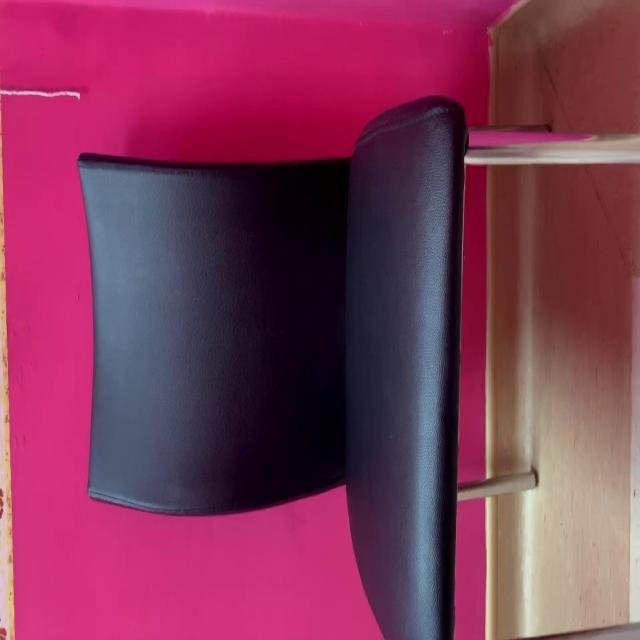Chair: (73, 96, 640, 640)
